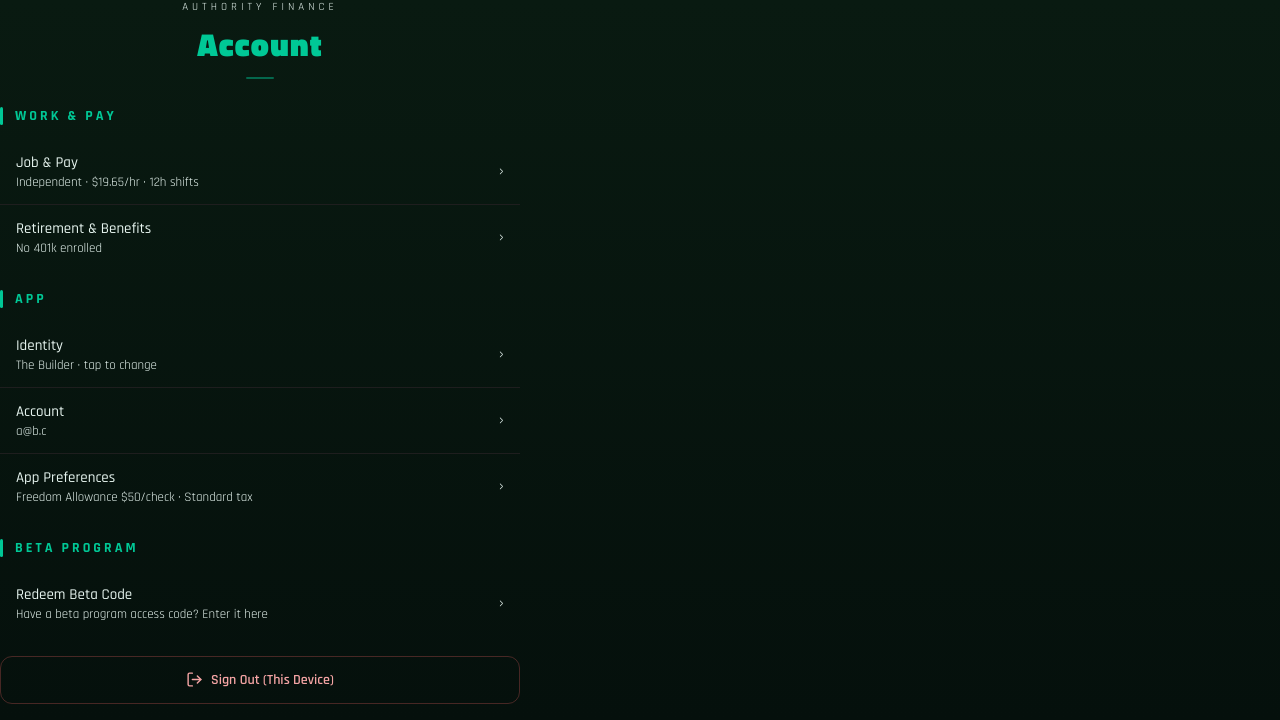
ProfilePanel — Identity row (TODO §31) › asks before changing: tapping the row opens the confirm and writes nothing
Click the text "The Builder · tap to change": [86, 365] box [16,357,157,373]
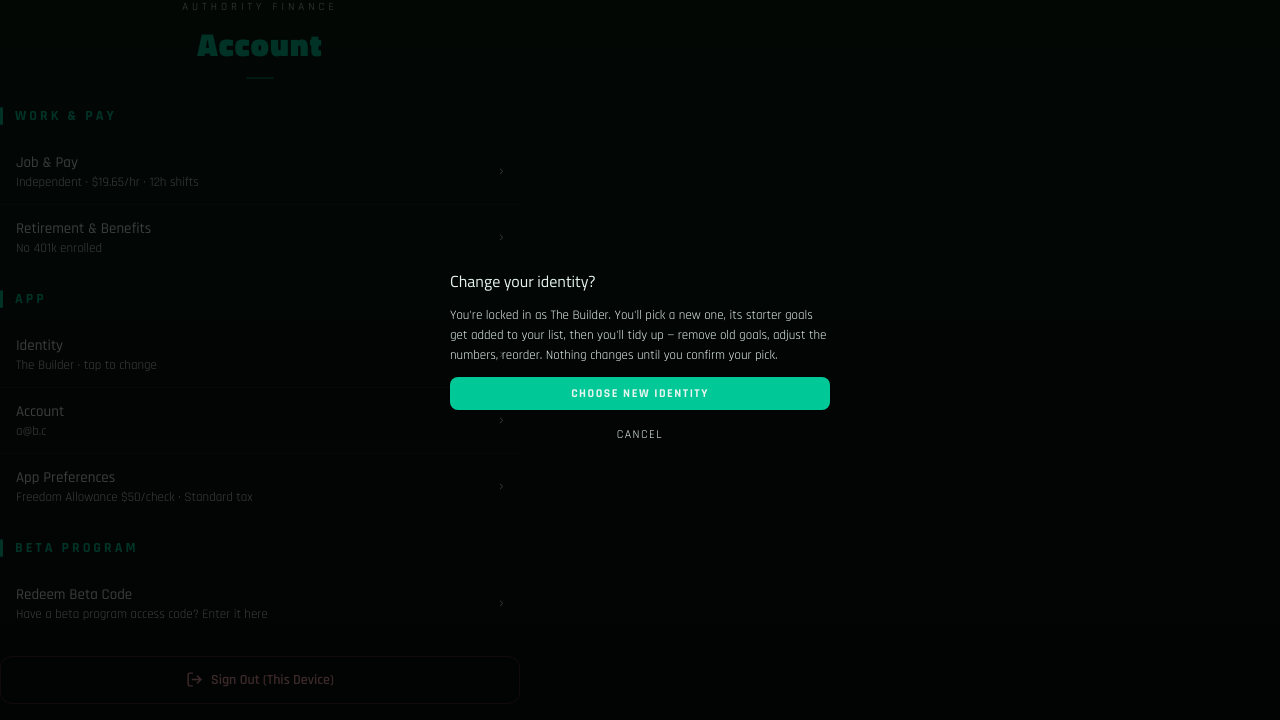
Expected: the dialog "Change your identity" is shown
Expected: the text "You're locked in as The Builder" is shown, [450,307,615,323]
Expected: the text "pick a new one, its starter goals get added" is shown, [450,307,826,363]
